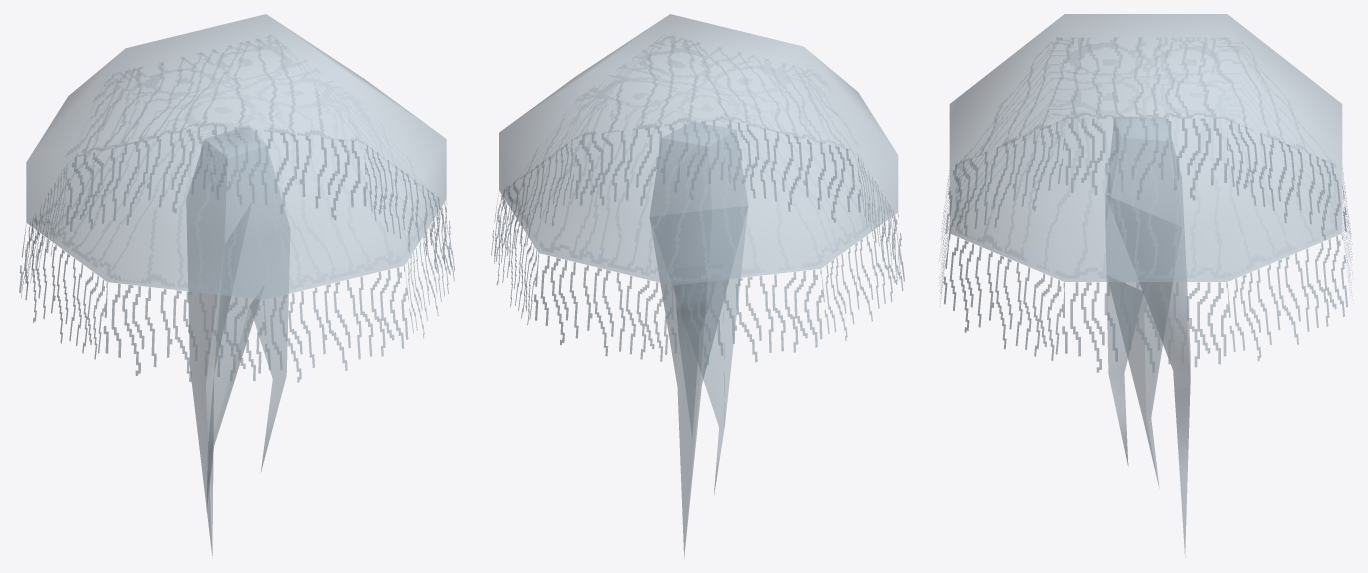
The model's file is 0494_Electric_Jellyfish.glb.
3 views of the same model, side by side, from view 1: azimuth 30°, elevation 25°; view 2: azimuth 150°, elevation 25°; view 3: azimuth 270°, elevation 25° (orthographic). The views are drawn at different scales.
Parts seen in each view (by area): view 1: part_1, part_0; view 2: part_1, part_0; view 3: part_1, part_0.
Boxes of the visible parts, x1,y1,x2,y2 form: part_1: (26,14,446,299); part_0: (19,36,454,557); part_1: (499,14,898,285); part_0: (491,36,904,558); part_1: (949,14,1342,281); part_0: (938,38,1353,557).
Size of the model in its own units: 0.2971 by 0.4046 by 0.2971.
1 material, 1 textured.
